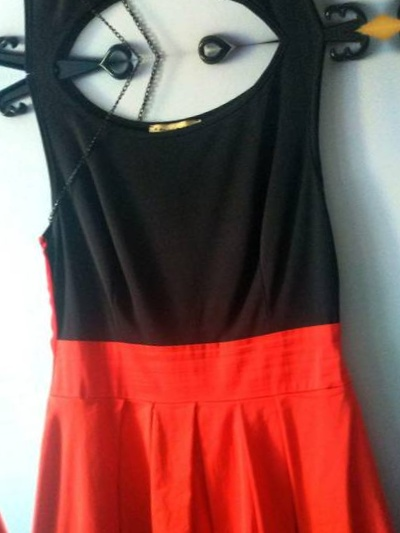Dress: (0, 40, 400, 533), (0, 0, 340, 75), (0, 90, 26, 533), (361, 0, 400, 14), (26, 532, 400, 533)
